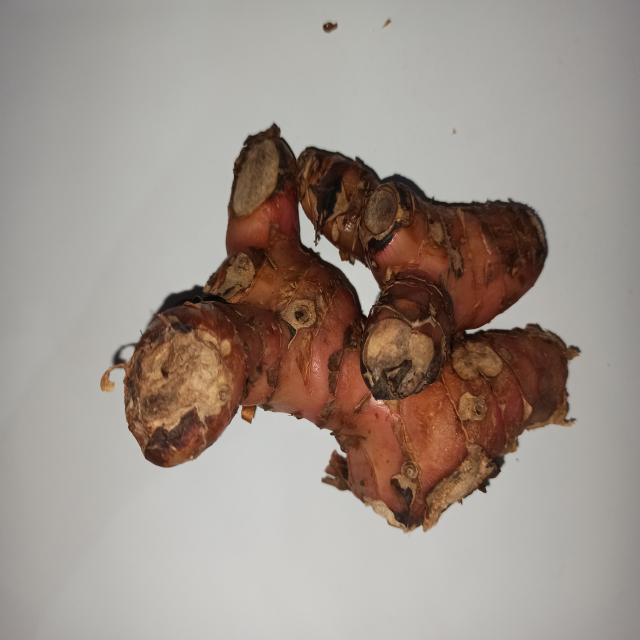ginger: (126, 144, 568, 516)
